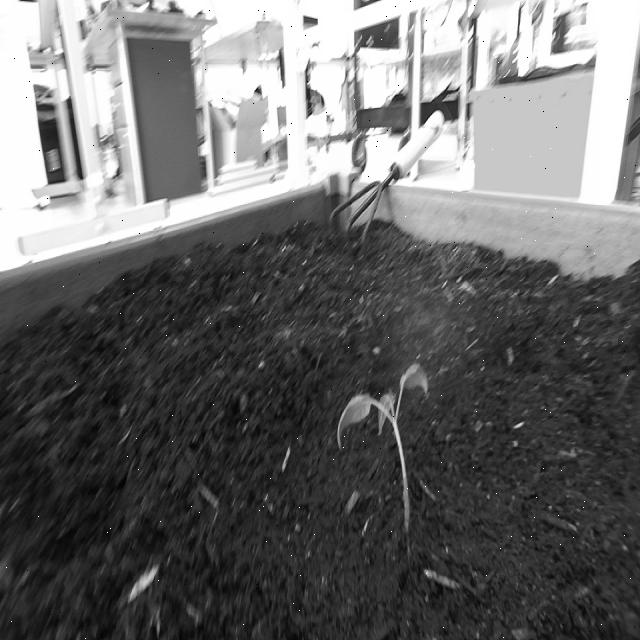Healthy: (334, 357, 431, 542)
